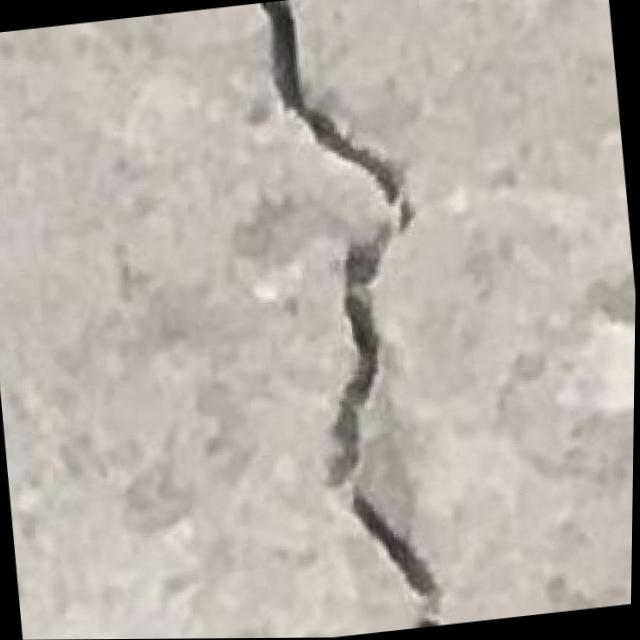Crack: (234, 0, 489, 639)
